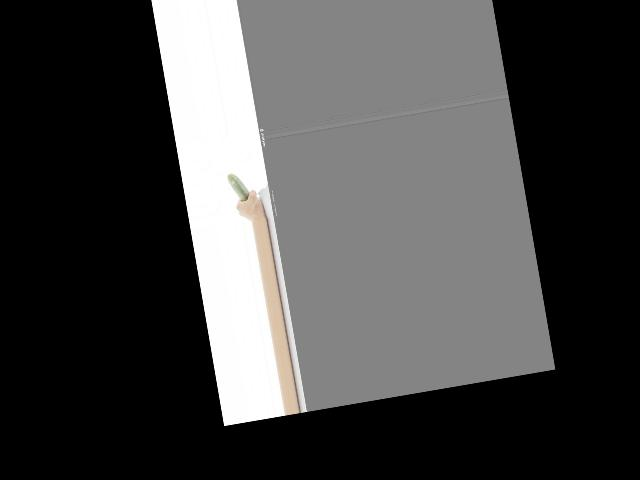cucumber: (227, 171, 250, 203)
